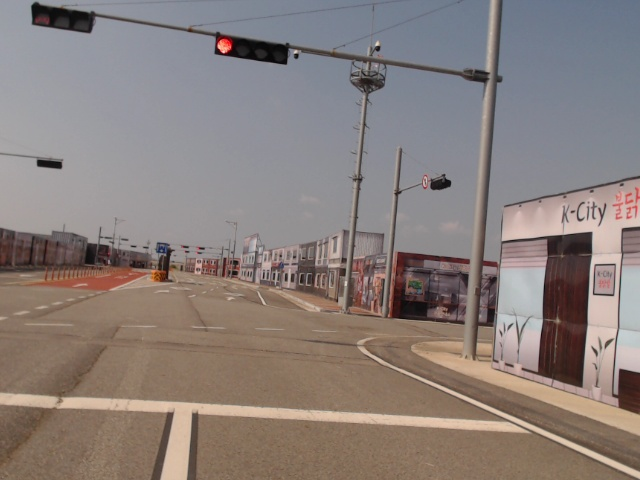red_4: (214, 32, 288, 65)
